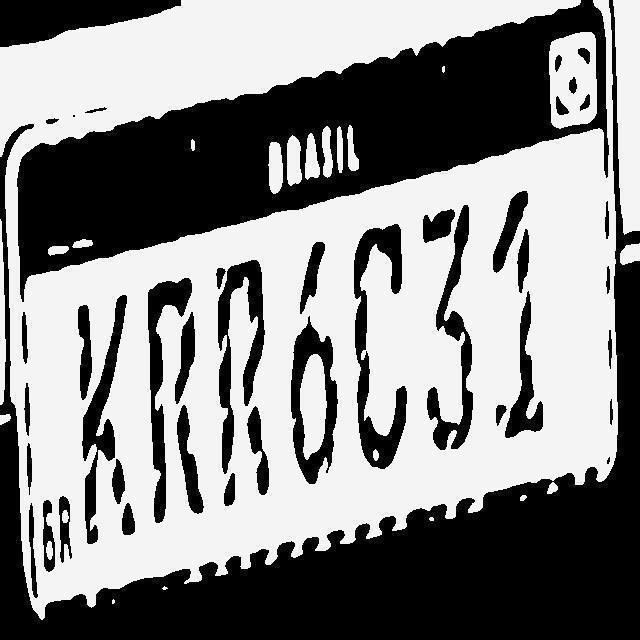1: (491, 188, 546, 440)
3: (421, 203, 475, 452)
6: (288, 239, 340, 487)
c: (352, 222, 408, 471)
k: (75, 292, 136, 546)
r: (144, 275, 208, 524), (213, 258, 270, 510)
